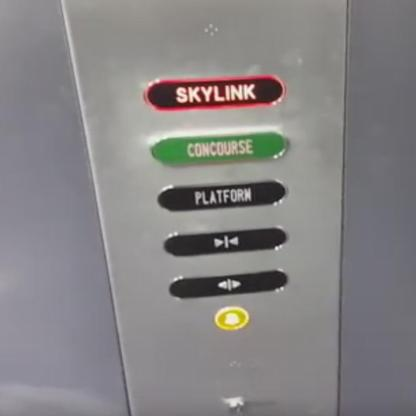alarm: (213, 306, 249, 332)
close: (163, 226, 288, 257)
open: (166, 269, 286, 300)
text: (148, 127, 288, 166), (142, 76, 287, 112), (154, 179, 287, 212)
